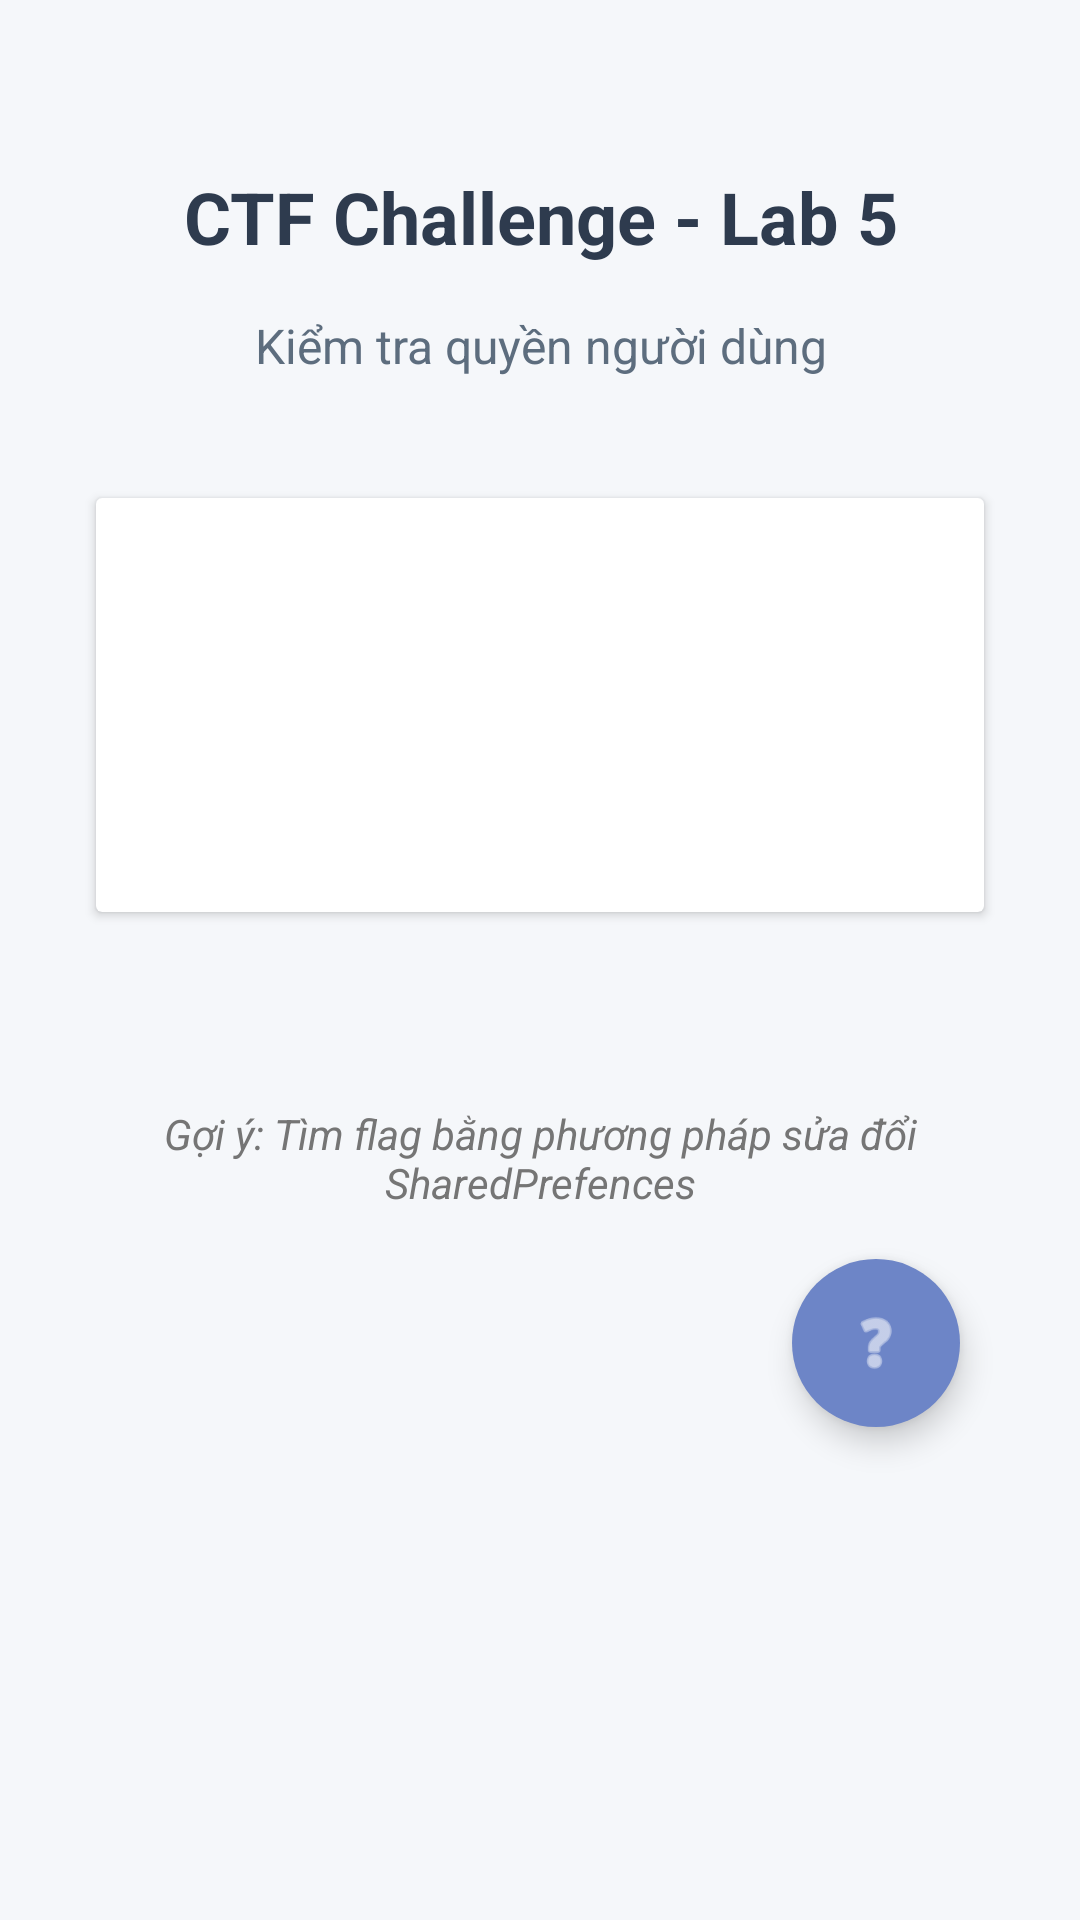

Screen size 1080px×1920px. Icon name, then its box in pixels as (x1, y1, x2, y2):
Help: (792, 1259, 960, 1427)
